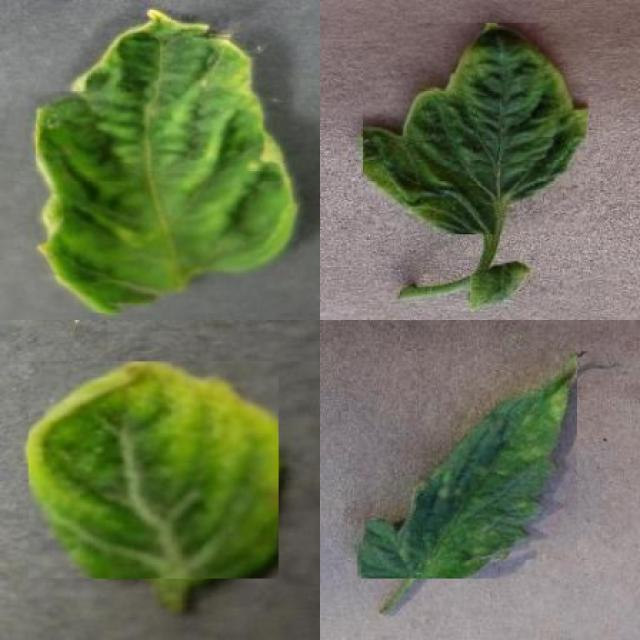Leaf Mold: (357, 348, 577, 578)
Yellow Leaf Curl Virus: (36, 8, 300, 313), (28, 362, 278, 578), (362, 23, 589, 234)
